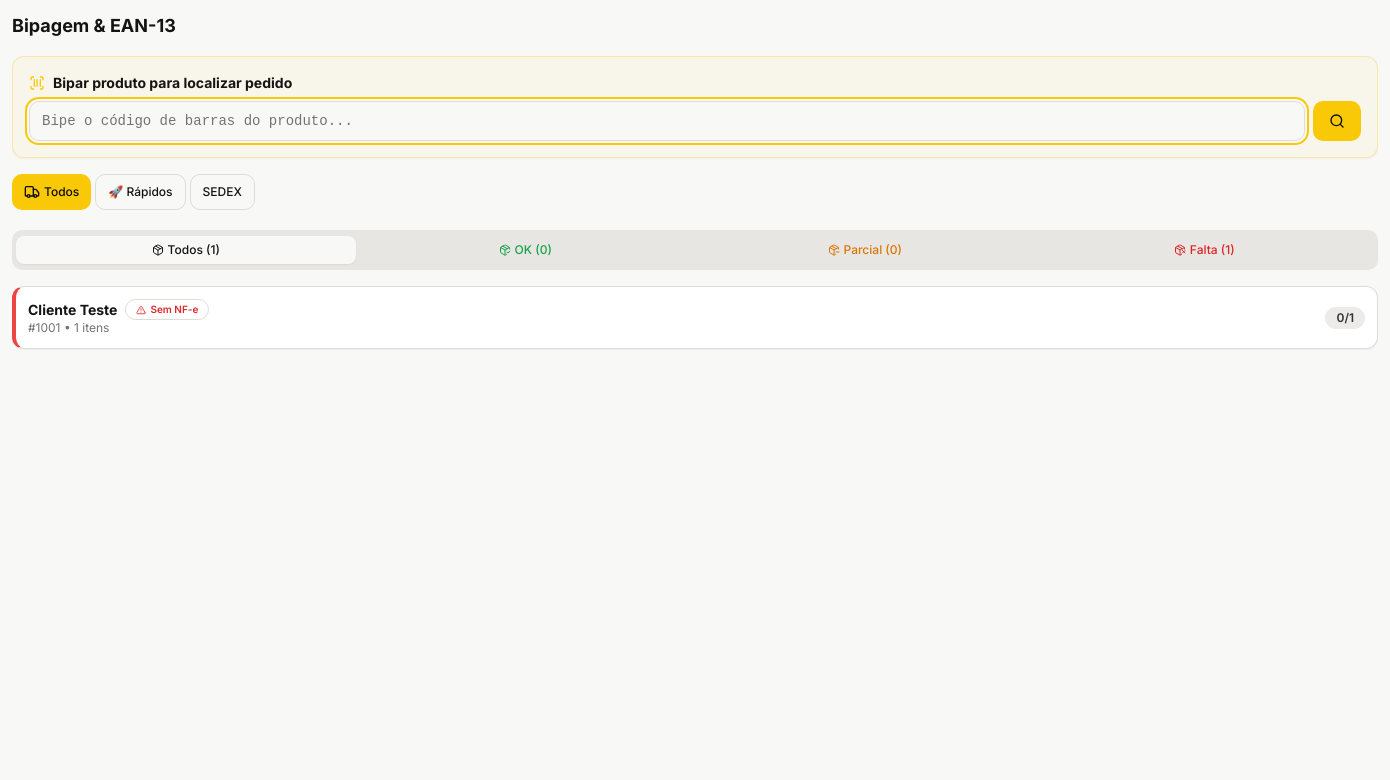
Scenario: embalagem › BetaPackingStation localiza o pedido e bipa o item pela etiqueta nova
Later steps or results of the test are not shown.
Step 1. Type "T101-37" into the field with placeholder "Bipe o código de barras do produto..." → (667, 121), box [29,101,1305,141]
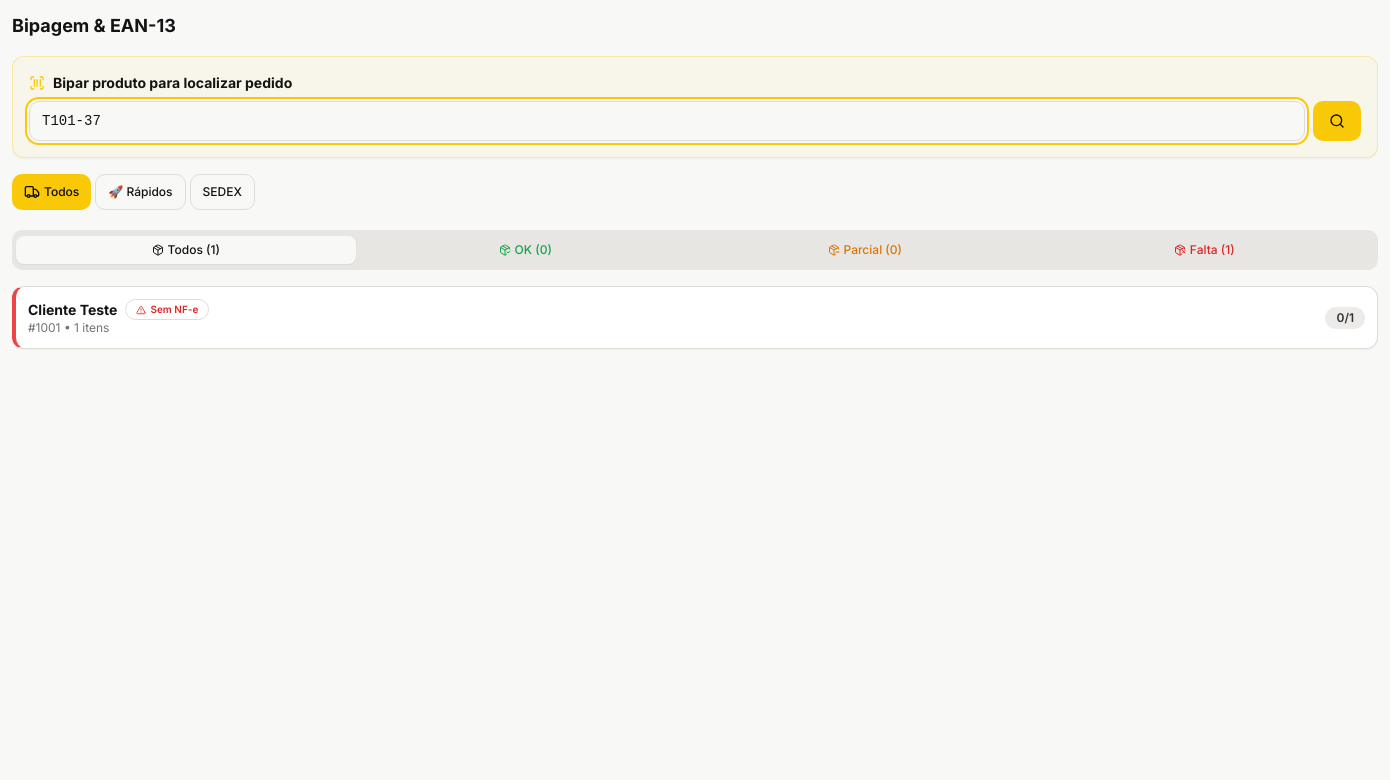
Step 2. Press Enter in the field with placeholder "Bipe o código de barras do produto...", box [29,101,1305,141]
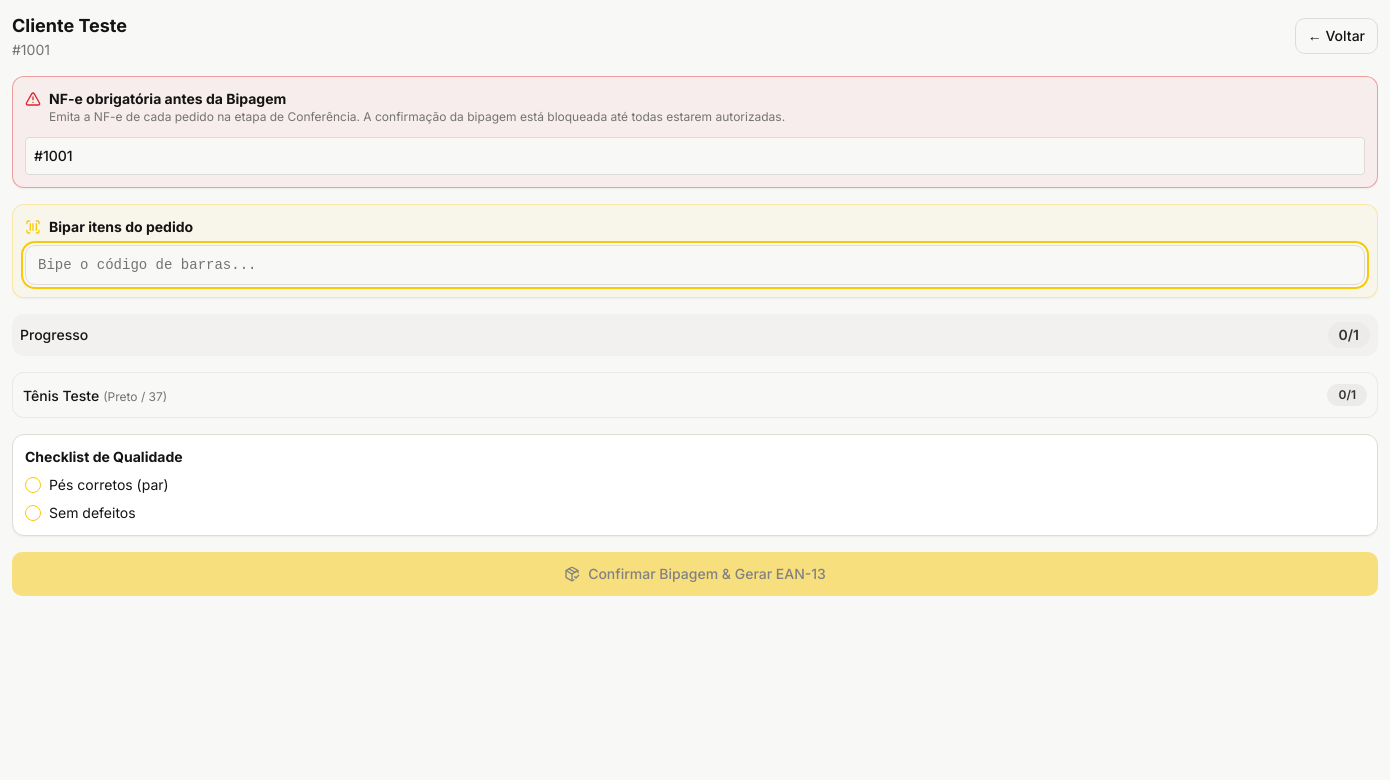
Result: the text "Bipar itens do pedido" is shown at [49,217,193,237]
